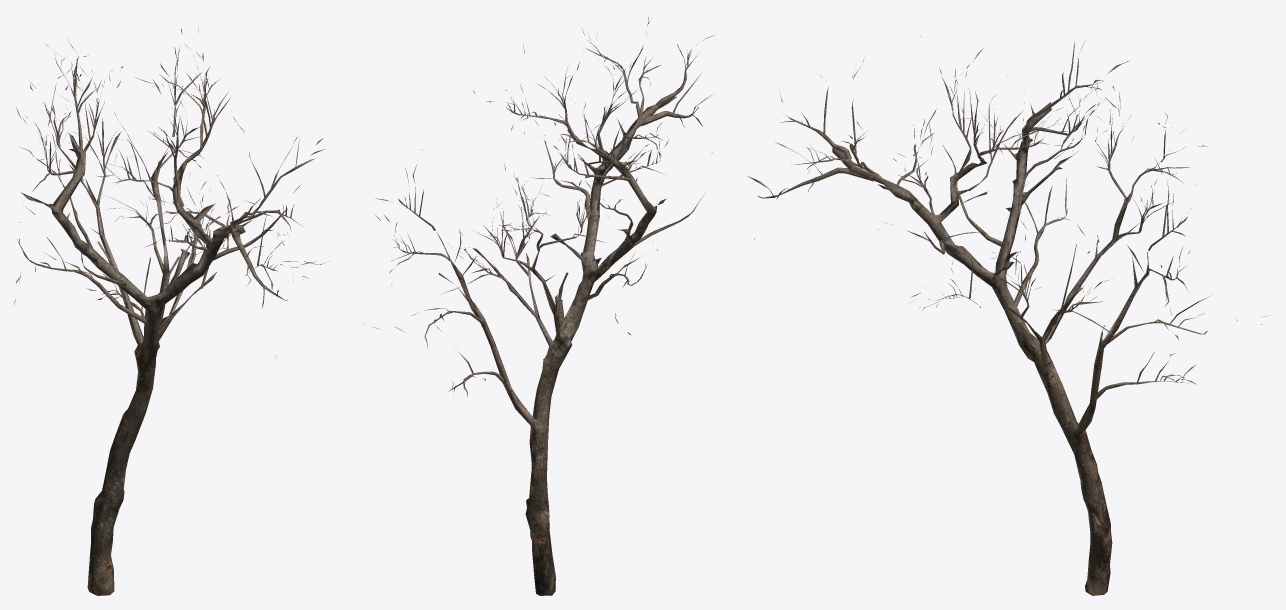
The model's file is wood-only.glb.
3 renders of one model, left to right at view 1: azimuth 30°, elevation 25°; view 2: azimuth 150°, elevation 25°; view 3: azimuth 270°, elevation 25°, orthographic. The views are drawn at different scales.
Visible parts, largest first — view 1: tree_small_02_LOD0; view 2: tree_small_02_LOD0; view 3: tree_small_02_LOD0.
Boxes of the visible parts, left/top/right/bottom form: tree_small_02_LOD0: left=14, top=29, right=325, bottom=595; tree_small_02_LOD0: left=363, top=17, right=714, bottom=595; tree_small_02_LOD0: left=747, top=37, right=1267, bottom=595.
Size of the model in its own units: 2.05 by 4.35 by 3.79.
Materials: 2 (2 with a texture image).
